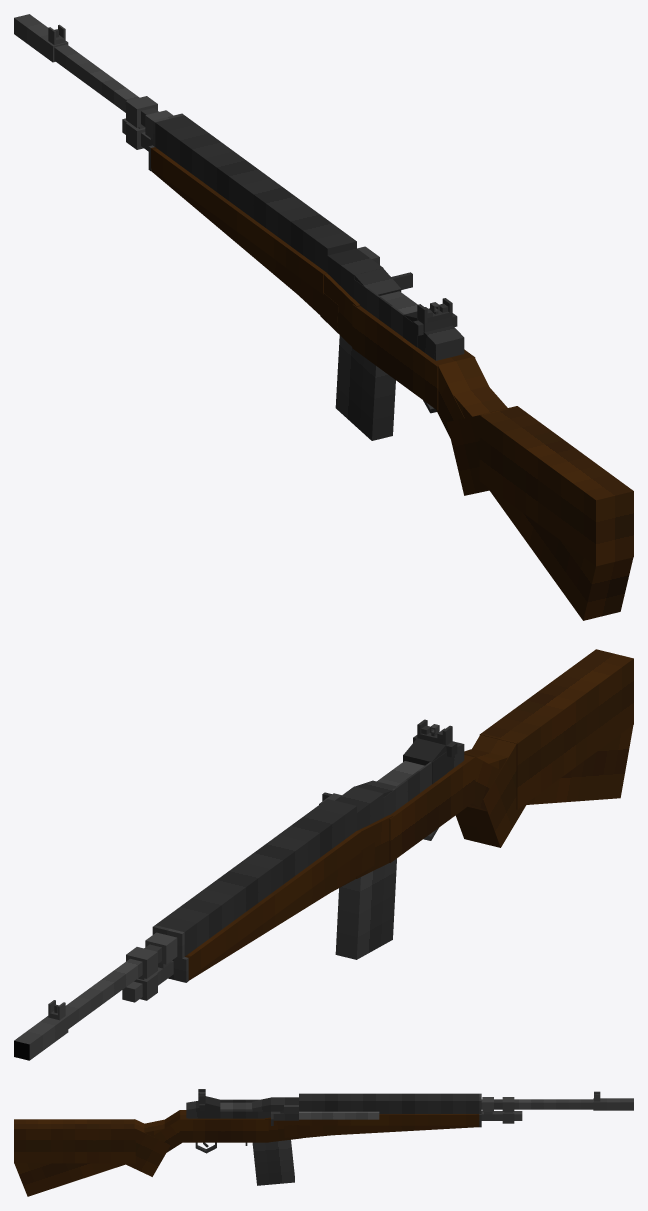
The picture shows the model from 3 angles, top to bottom: view 1: azimuth 30°, elevation 25°; view 2: azimuth 150°, elevation 25°; view 3: azimuth 270°, elevation 25°; orthographic projection. The views are drawn at different scales.
Visible parts, largest first — view 1: cube_7, cube_12, cube_8, cube_2, cube_11, cube_0, cube_3, cube_6, cube_4, cube_5, cube_14, cube_29 (+3 smaller); view 2: cube_7, cube_12, cube_0, cube_11, cube_2, cube_6, cube_8, cube_3, cube_4, cube_25, cube_14, cube_27 (+7 smaller); view 3: cube_7, cube_12, cube_2, cube_8, cube_11, cube_0, cube_3, cube_6, cube_4, cube_53, cube_5, cube_25 (+12 smaller).
Boxes of the visible parts, <box> form: cube_7: <box>479,406,633,566</box>; cube_12: <box>155,115,356,272</box>; cube_8: <box>486,486,633,620</box>; cube_2: <box>352,304,475,410</box>; cube_11: <box>151,148,327,294</box>; cube_0: <box>335,335,395,440</box>; cube_3: <box>151,147,338,327</box>; cube_6: <box>447,406,517,495</box>; cube_4: <box>54,44,158,126</box>; cube_5: <box>436,356,488,438</box>; cube_14: <box>327,248,383,298</box>; cube_29: <box>320,273,360,346</box>; cube_7: <box>479,649,633,809</box>; cube_12: <box>156,799,356,956</box>; cube_0: <box>335,858,396,959</box>; cube_11: <box>186,831,361,977</box>; cube_2: <box>389,755,475,862</box>; cube_6: <box>455,733,526,847</box>; cube_8: <box>524,725,633,805</box>; cube_3: <box>185,841,375,980</box>; cube_4: <box>65,944,161,1028</box>; cube_25: <box>14,1015,68,1060</box>; cube_14: <box>335,786,383,830</box>; cube_27: <box>383,762,431,817</box>; cube_7: <box>14,1119,135,1163</box>; cube_12: <box>299,1093,479,1113</box>; cube_2: <box>179,1110,268,1142</box>; cube_8: <box>14,1163,128,1196</box>; cube_11: <box>299,1114,479,1125</box>; cube_0: <box>252,1139,294,1185</box>; cube_3: <box>284,1114,479,1137</box>; cube_6: <box>126,1119,170,1176</box>; cube_4: <box>481,1099,593,1109</box>; cube_53: <box>299,1111,379,1119</box>; cube_5: <box>152,1110,181,1152</box>; cube_25: <box>593,1098,633,1110</box>.
Size of the model in its own units: 0.0944 by 0.2702 by 1.53.
Materials: 1 (1 with a texture image).
